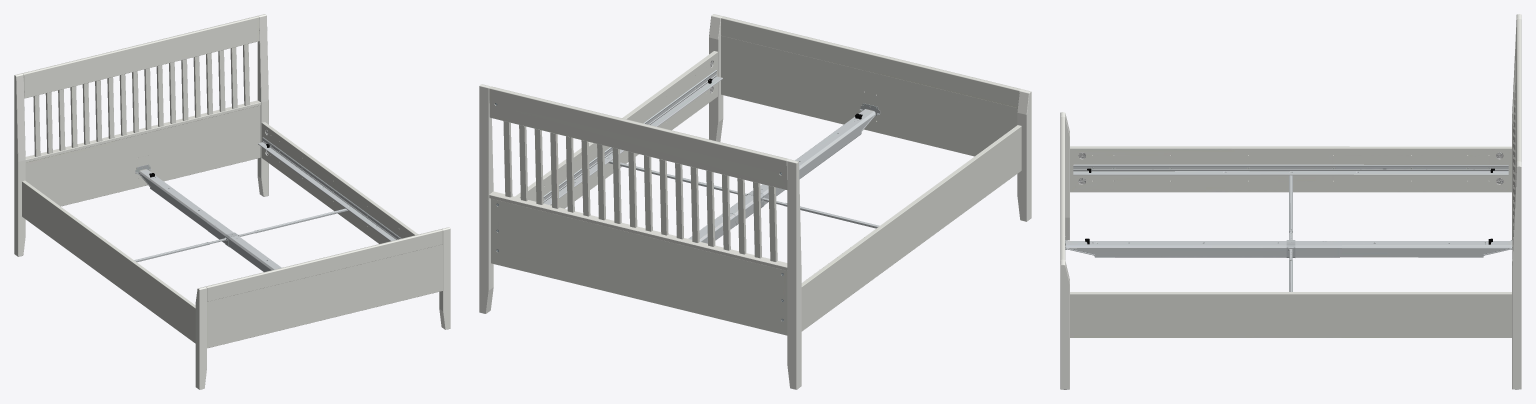
File: IDAN_S_30458912.glb
3 renders of one model, left to right at view 1: azimuth 30°, elevation 25°; view 2: azimuth 150°, elevation 25°; view 3: azimuth 270°, elevation 25°, orthographic. The views are drawn at different scales.
Parts seen in each view (by area): view 1: 30458912-IDANÃƒâ€žS001; view 2: 30458912-IDANÃƒâ€žS001; view 3: 30458912-IDANÃƒâ€žS001.
Part boxes in pixels (<box>): 30458912-IDANÃƒâ€žS001: <box>14,14,450,389</box>; 30458912-IDANÃƒâ€žS001: <box>479,14,1031,389</box>; 30458912-IDANÃƒâ€žS001: <box>1060,14,1521,389</box>.
Size of the model in its own units: 1.63 by 1.12 by 2.09.
Materials: 1 (1 with a texture image).
